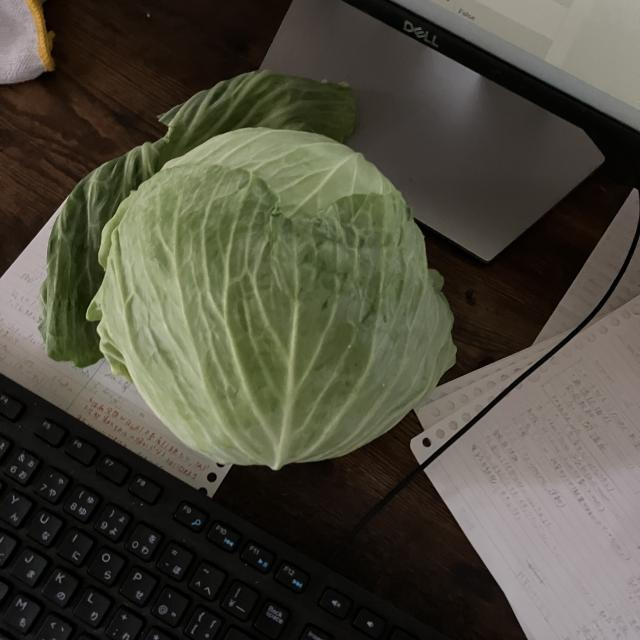cabbage: (36, 68, 461, 475)
